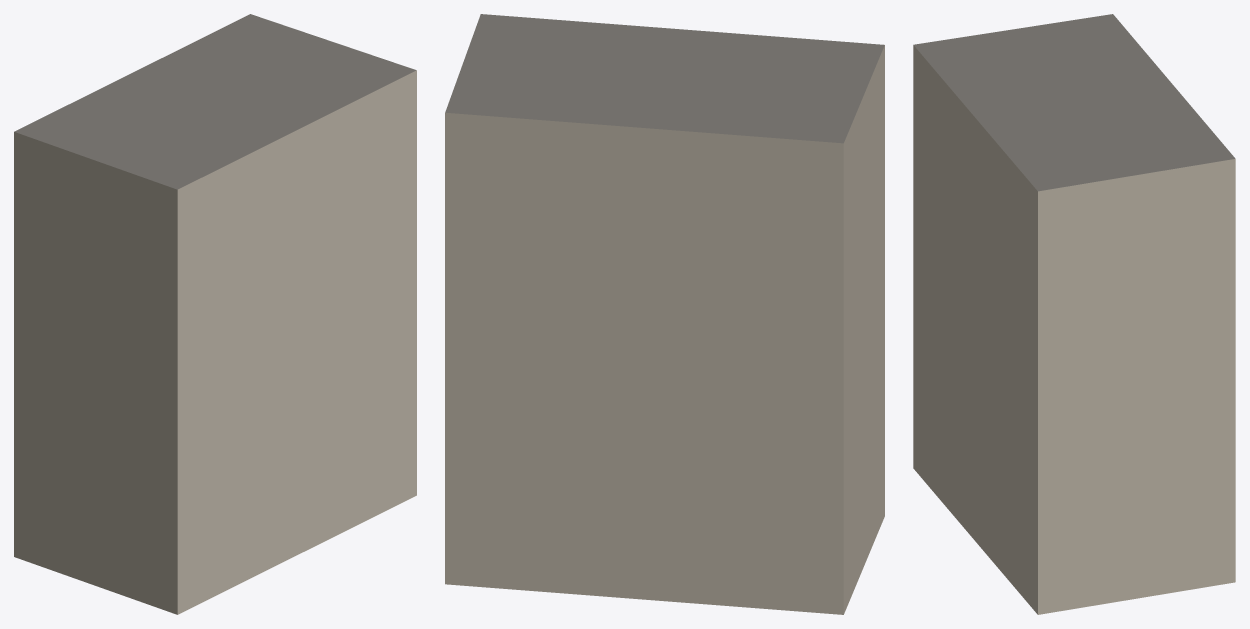
3 renders of one model, left to right at view 1: azimuth 30°, elevation 25°; view 2: azimuth 150°, elevation 25°; view 3: azimuth 270°, elevation 25°, orthographic. The views are drawn at different scales.
Parts seen in each view (by area): view 1: HP-w414733158; view 2: HP-w414733158; view 3: HP-w414733158.
Part boxes in pixels (<box>): HP-w414733158: <box>14,14,416,614</box>; HP-w414733158: <box>445,14,884,614</box>; HP-w414733158: <box>913,14,1235,614</box>.
Size of the model in its own units: 16.17 by 18 by 12.42.
